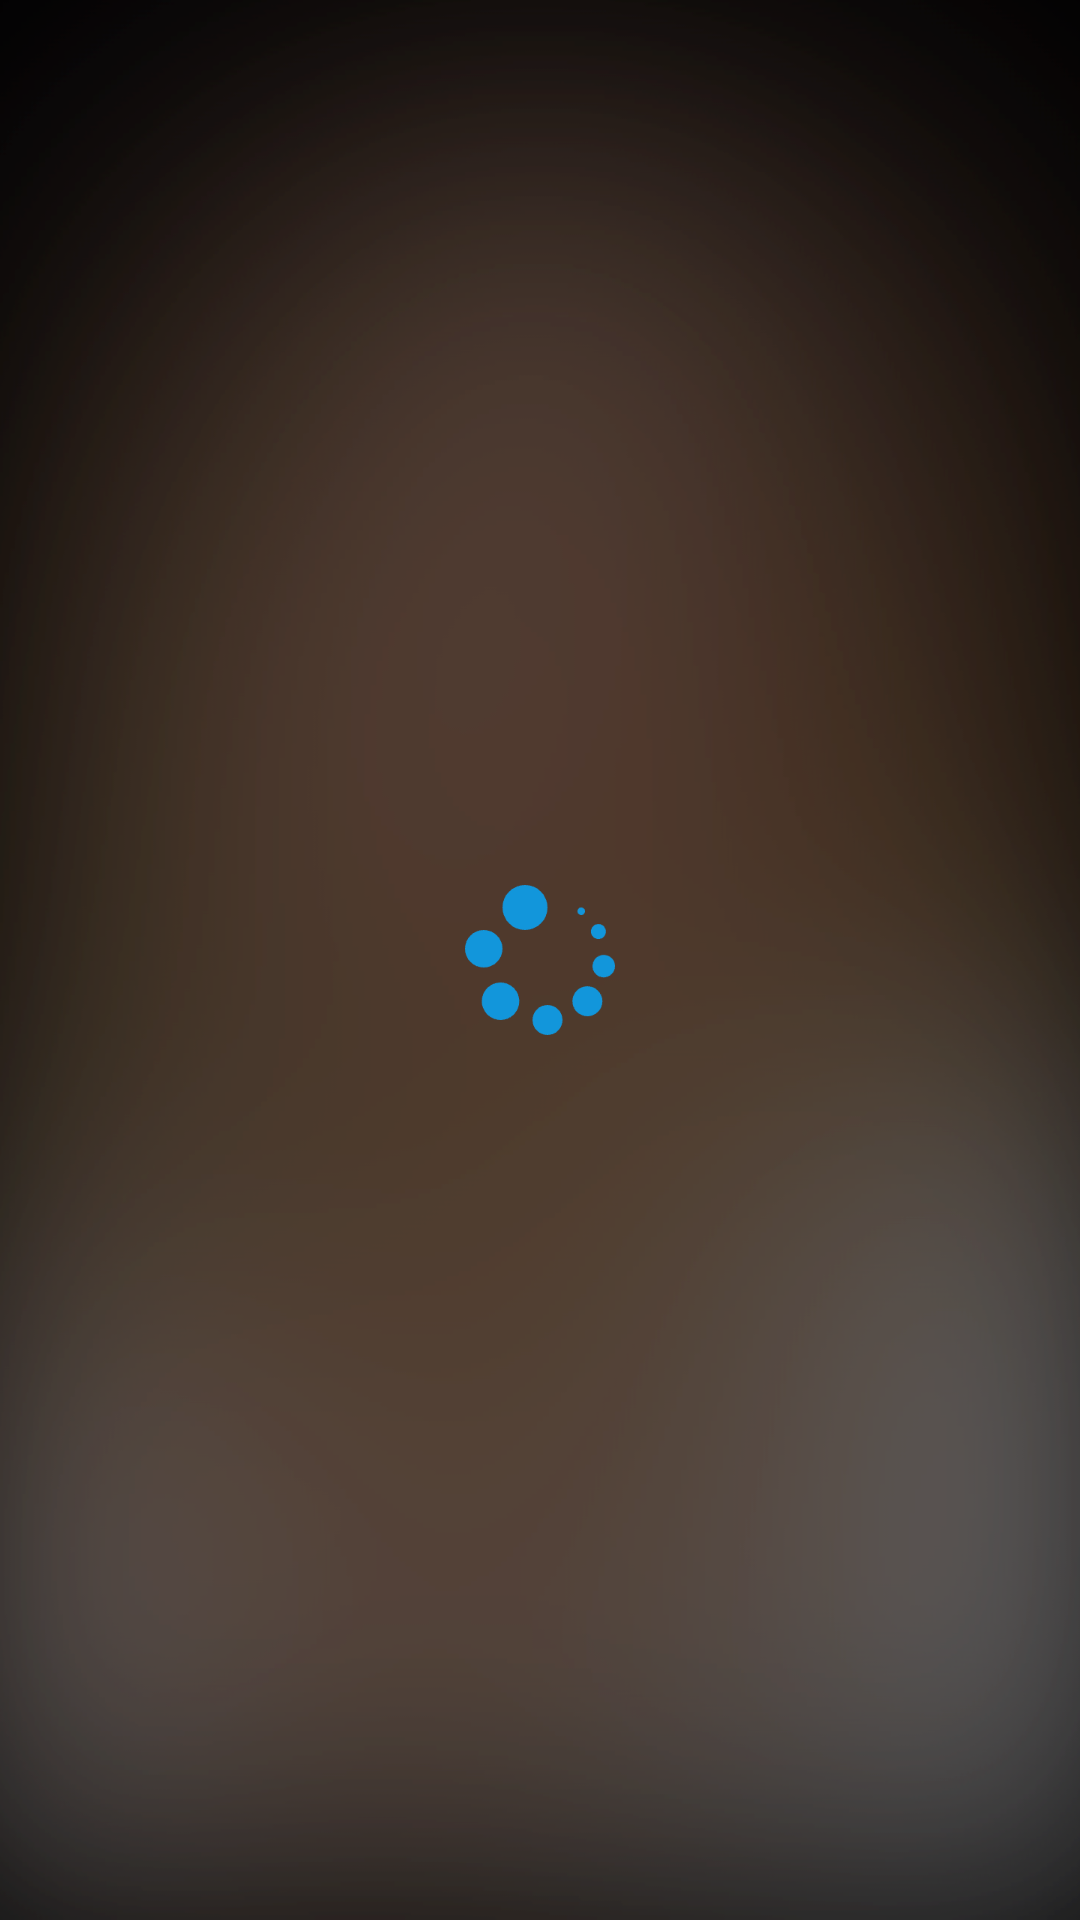

Where to tap for icons on this 1080*1920 app screen, as (x=x, y=y):
live room loading circle: (x=540, y=960)
